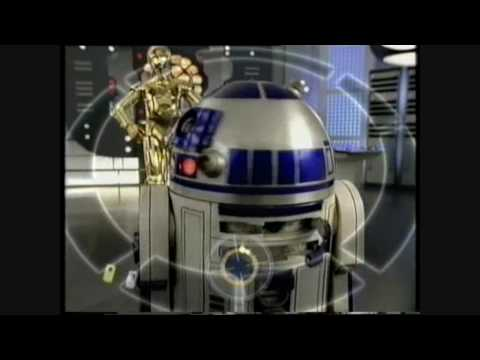r2d2: (139, 79, 366, 311)
